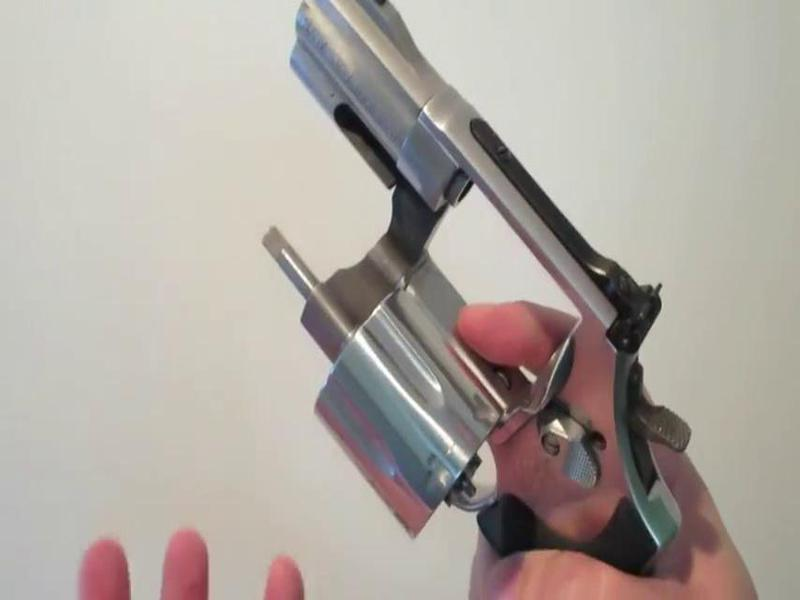Revolver: (242, 3, 692, 600)
